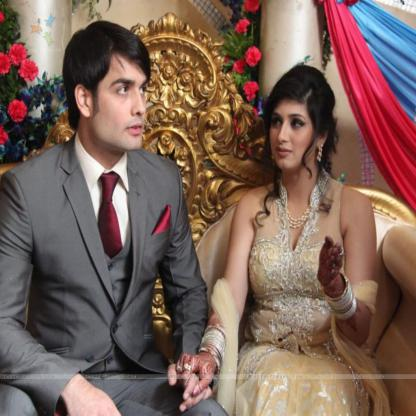face: (97, 54, 149, 150), (270, 107, 311, 172)
